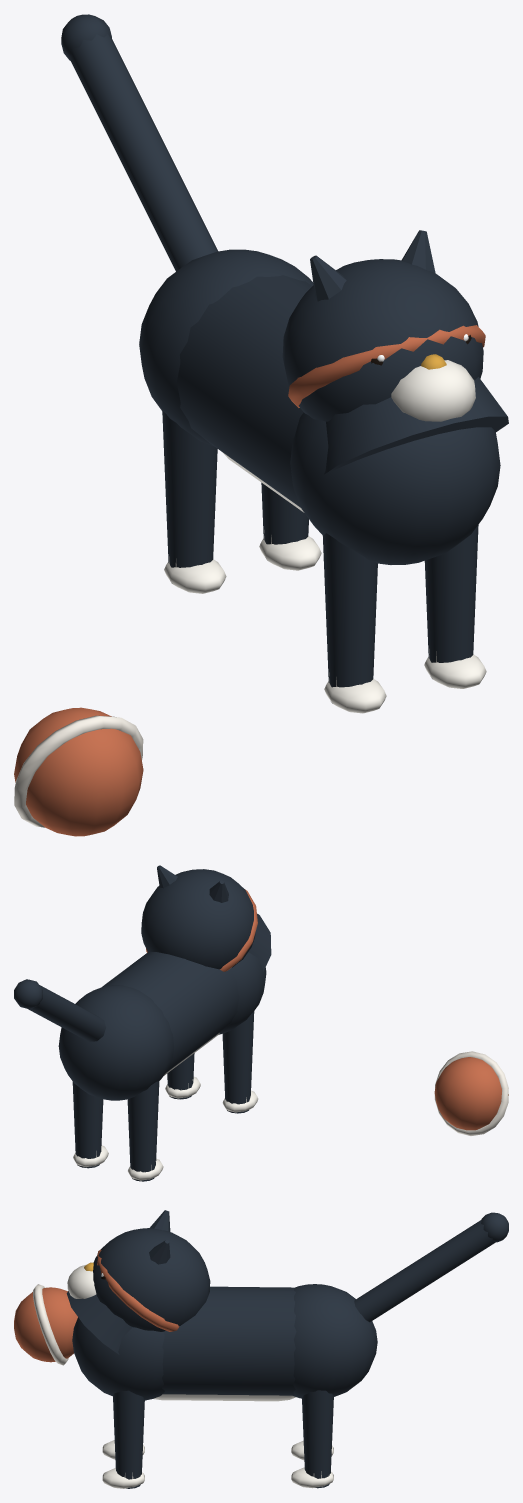
File: h23-kucing-hitam.glb
3 views of the same model, one above another, from view 1: azimuth 30°, elevation 25°; view 2: azimuth 150°, elevation 25°; view 3: azimuth 270°, elevation 25° (orthographic). The views are drawn at different scales.
Parts seen in each view (by area): view 1: Kucing Tuxedo, head, neck; view 2: Kucing Tuxedo, head, neck; view 3: Kucing Tuxedo, head, neck.
Part boxes in pixels (left/top/right/bottom): Kucing Tuxedo: left=14, top=14, right=500, bottom=836; head: left=282, top=230, right=483, bottom=421; neck: left=288, top=325, right=508, bottom=474; Kucing Tuxedo: left=14, top=952, right=508, bottom=1181; head: left=141, top=865, right=255, bottom=969; neck: left=146, top=889, right=271, bottom=971; Kucing Tuxedo: left=14, top=1212, right=508, bottom=1488; head: left=67, top=1210, right=210, bottom=1331; neck: left=66, top=1249, right=179, bottom=1354.
Size of the model in its own units: 0.629 by 0.49 by 0.8525.
